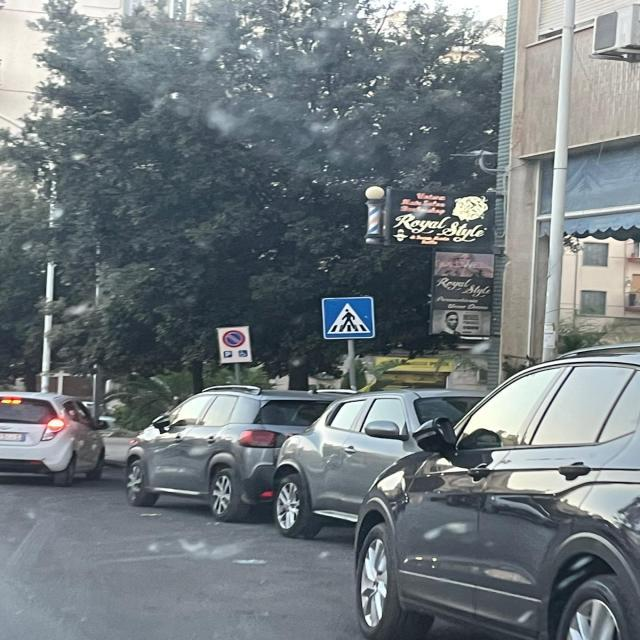forb_stopping: (222, 330, 246, 348)
forb_waiting: (321, 297, 376, 340)
